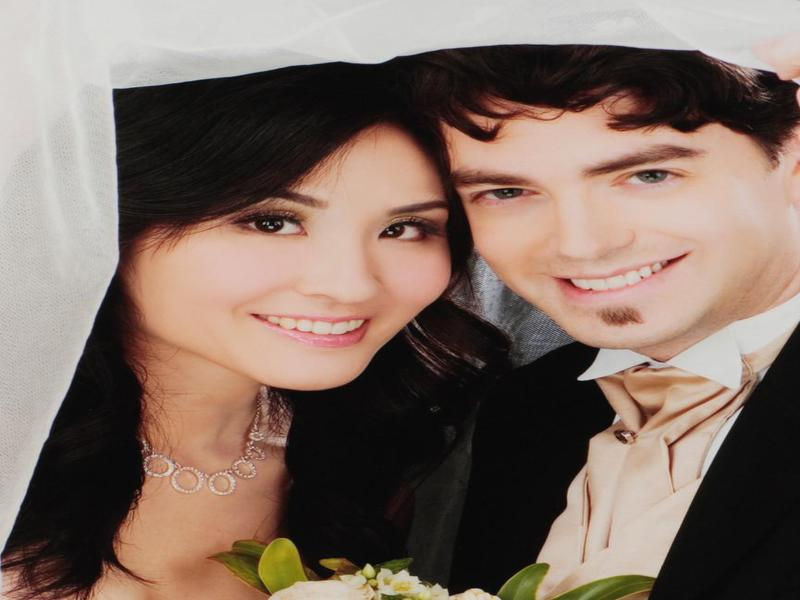person: (1, 51, 456, 600), (400, 54, 800, 599)
